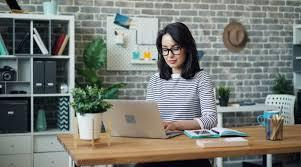Good Sitting Posture: (102, 27, 229, 139)
